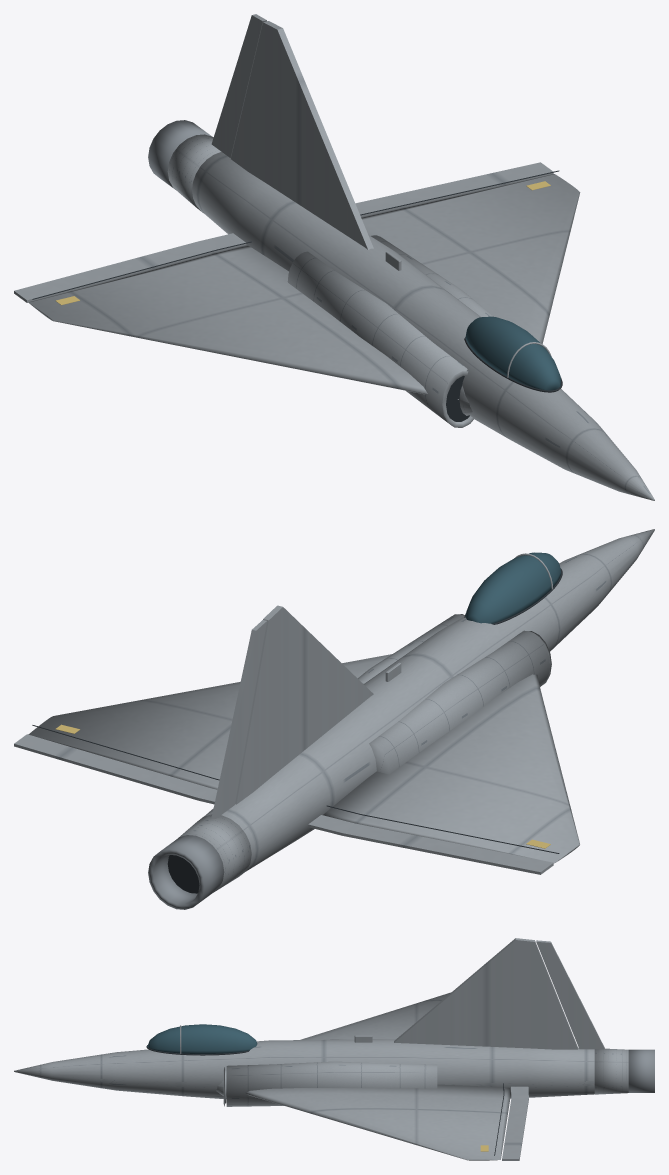
Rendered from mirage-2000c.glb.
3 renders of one model, top to bottom at view 1: azimuth 30°, elevation 25°; view 2: azimuth 150°, elevation 25°; view 3: azimuth 270°, elevation 25°, orthographic. The views are drawn at different scales.
Parts seen in each view (by area): view 1: airframe_static, canopy, elevon_L, elevon_R, rudder_1; view 2: airframe_static, canopy, elevon_L, rudder_1, elevon_R; view 3: airframe_static, canopy, rudder_1, elevon_R.
Boxes of the visible parts, <box> form: airframe_static: <box>28,21,654,500</box>; canopy: <box>464,316,562,392</box>; elevon_L: <box>14,233,246,302</box>; elevon_R: <box>355,162,553,216</box>; rudder_1: <box>211,14,266,158</box>; airframe_static: <box>28,529,654,909</box>; canopy: <box>464,552,562,624</box>; elevon_L: <box>308,815,553,874</box>; rudder_1: <box>211,620,266,818</box>; elevon_R: <box>14,734,217,804</box>; airframe_static: <box>14,938,654,1160</box>; canopy: <box>146,1024,257,1055</box>; rudder_1: <box>536,940,604,1049</box>; elevon_R: <box>502,1086,528,1160</box>.
Bounding box in the file's own units: 9.13 × 4 × 14.35.
5 materials, 1 textured.
